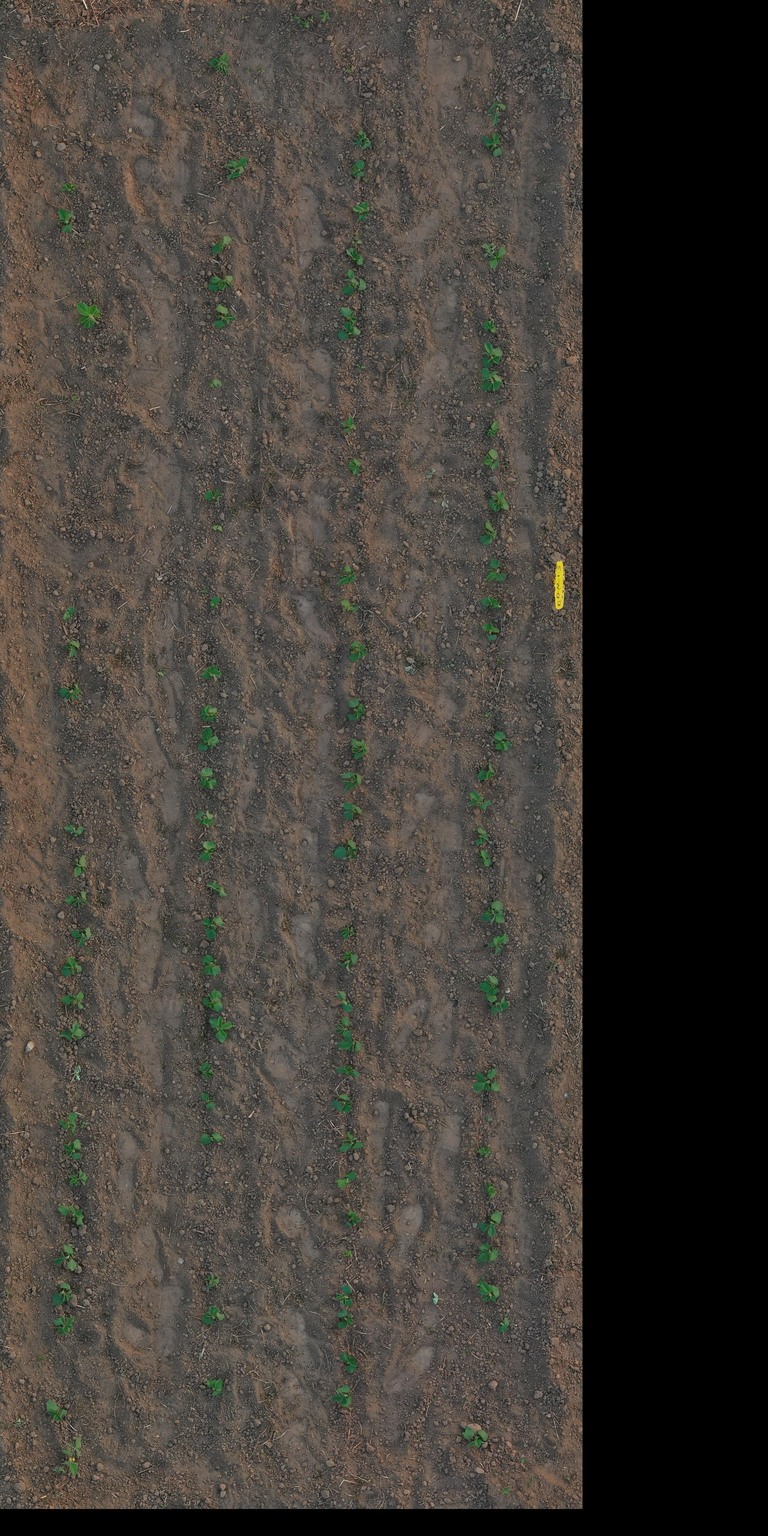s: (62, 1436, 82, 1476), (76, 302, 102, 329), (208, 1016, 233, 1044), (482, 242, 507, 269), (477, 1211, 502, 1237), (342, 269, 366, 296), (53, 1244, 77, 1271), (473, 1068, 500, 1092), (213, 303, 238, 328), (461, 1427, 489, 1448), (480, 368, 504, 392), (202, 916, 226, 940), (197, 727, 220, 752), (481, 900, 504, 925), (482, 341, 503, 368), (52, 1282, 75, 1306), (338, 1131, 364, 1152), (57, 1205, 84, 1225), (226, 157, 248, 181), (485, 992, 509, 1014), (333, 839, 358, 860), (59, 1021, 86, 1040), (209, 52, 230, 76), (482, 133, 503, 157), (60, 956, 82, 978), (486, 558, 506, 582), (468, 790, 492, 810), (488, 491, 510, 512), (202, 990, 223, 1012), (340, 771, 362, 792), (337, 950, 358, 972), (478, 974, 499, 996), (332, 1093, 354, 1114), (479, 1282, 500, 1304), (64, 890, 87, 910), (70, 927, 93, 947), (476, 1243, 499, 1263), (332, 1384, 352, 1407), (206, 275, 233, 292), (487, 102, 506, 126), (334, 1017, 352, 1042), (46, 1400, 67, 1421), (337, 564, 357, 586), (348, 640, 368, 662), (488, 933, 508, 955), (338, 321, 361, 340), (347, 698, 366, 721), (202, 1305, 225, 1324), (57, 208, 74, 233), (60, 992, 85, 1009), (342, 801, 363, 821), (58, 1112, 78, 1133), (350, 738, 369, 760), (199, 768, 218, 790), (202, 954, 221, 976), (53, 1316, 75, 1335), (335, 1284, 353, 1307), (58, 683, 82, 700), (480, 521, 497, 545), (340, 1351, 358, 1373), (352, 130, 371, 150), (211, 236, 232, 254), (482, 449, 500, 470), (493, 730, 511, 751), (63, 1139, 81, 1160), (195, 809, 214, 828), (352, 202, 370, 222), (336, 1170, 356, 1188), (199, 841, 216, 862), (337, 991, 353, 1013), (337, 1038, 362, 1052), (346, 248, 365, 266), (482, 622, 500, 641), (68, 1169, 88, 1186), (337, 1309, 354, 1329), (200, 665, 222, 680), (340, 306, 358, 324), (477, 763, 496, 780), (74, 855, 88, 878), (200, 1132, 223, 1146), (200, 705, 218, 722), (206, 1378, 223, 1396), (481, 596, 502, 610), (344, 1210, 361, 1227), (336, 1065, 360, 1077), (63, 824, 85, 837), (350, 159, 365, 178), (208, 882, 227, 897), (474, 827, 489, 846), (340, 416, 356, 433), (347, 458, 362, 476), (65, 640, 80, 658), (200, 1062, 215, 1080), (340, 599, 360, 612), (484, 421, 500, 437), (204, 1273, 221, 1288), (201, 1092, 215, 1110), (204, 489, 223, 502), (340, 924, 355, 940), (478, 850, 492, 867), (483, 319, 496, 333), (62, 606, 75, 620), (484, 1184, 497, 1198), (61, 182, 76, 194), (498, 1317, 510, 1332), (209, 596, 221, 610), (478, 1146, 491, 1158), (209, 378, 222, 388), (342, 1250, 354, 1257), (71, 396, 78, 403)
